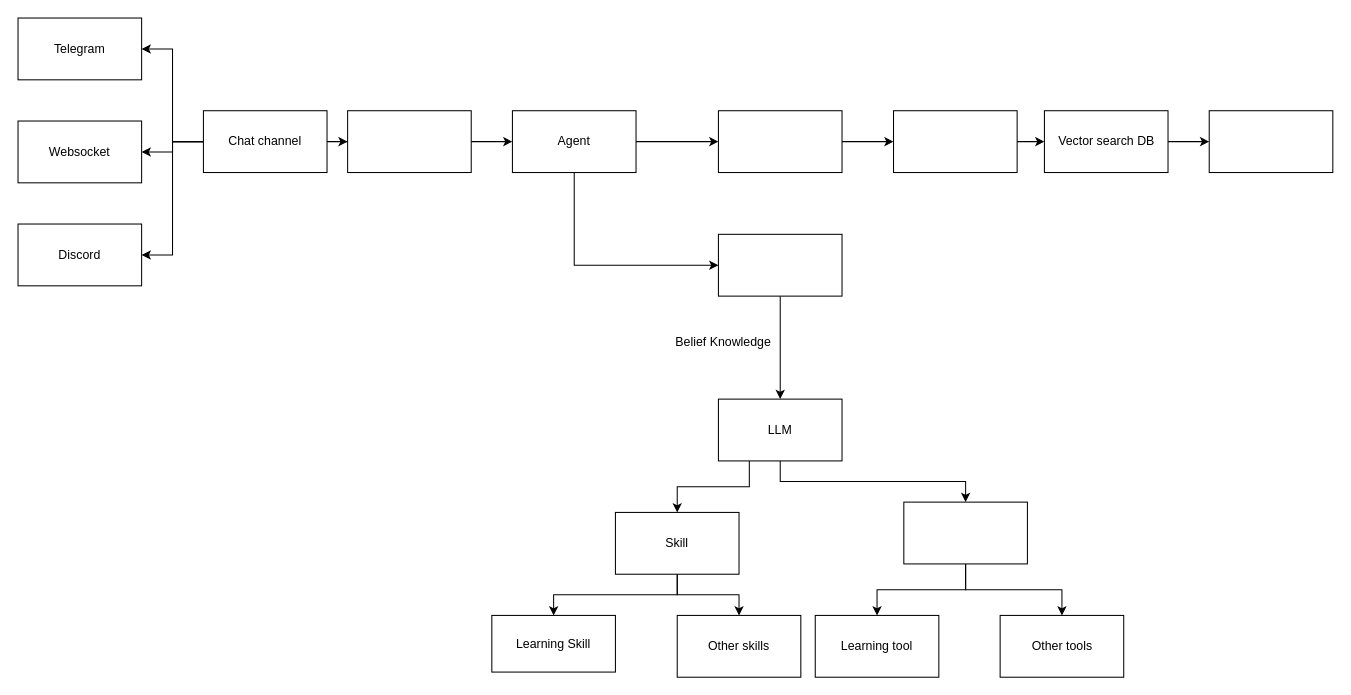
The diagram is 1351 pixels wide and 695 high, and some of its shapes have lost their labels. Here are the shapes that lost their labels. From the top down, the box of each, then its label:
(347, 110, 471, 173): Human feedback
(717, 110, 842, 173): Memory manager
(892, 110, 1017, 173): Embedding models
(1208, 110, 1333, 173): Belief Knowledge DB
(717, 233, 842, 296): Core Planer
(903, 501, 1027, 564): Tool manager
